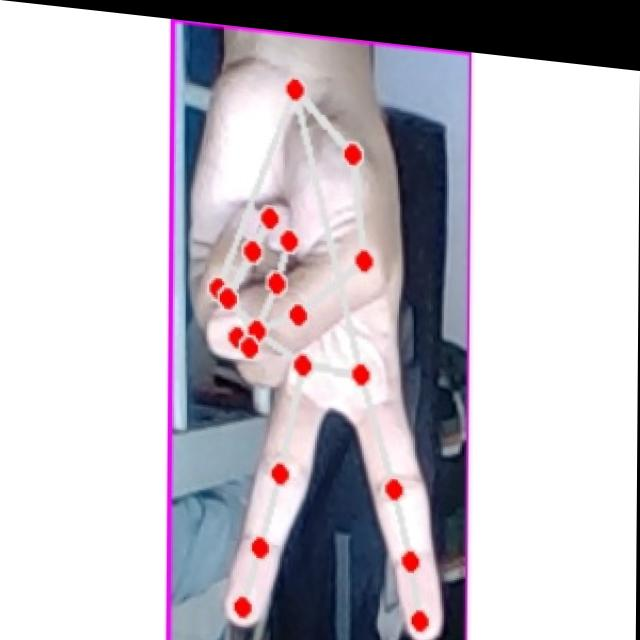V: (187, 49, 451, 640)
